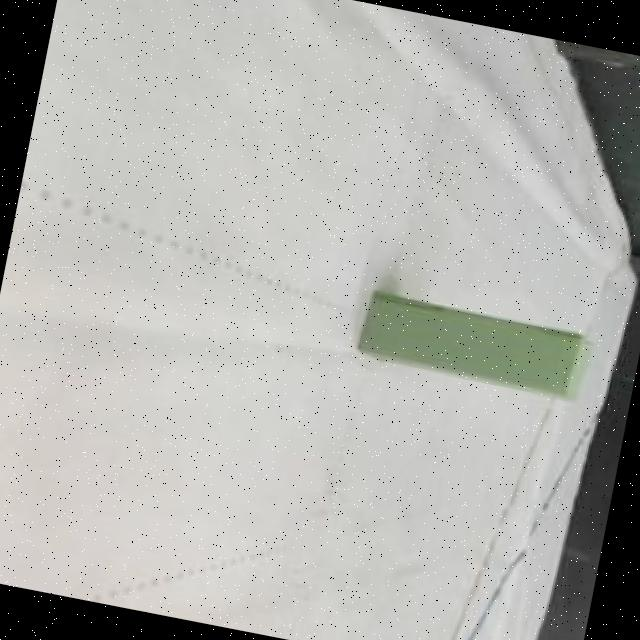greenbox: (352, 286, 602, 408)
